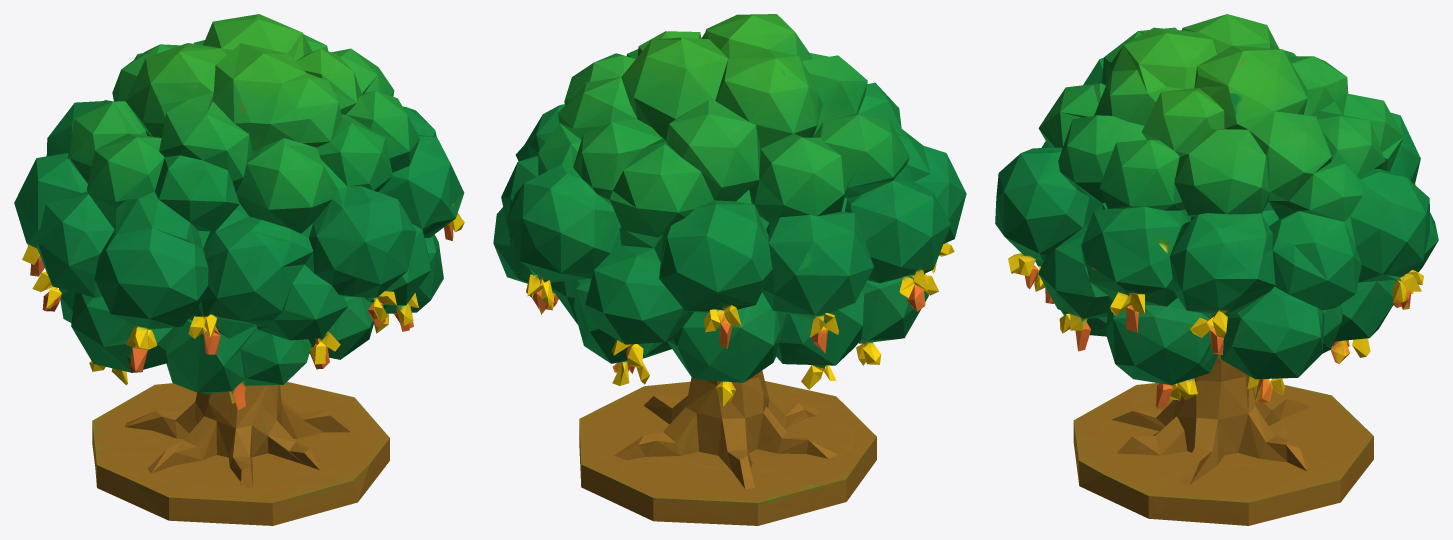
File: rio-arvore-mangueira.glb
3 views of the same model, side by side, from view 1: azimuth 30°, elevation 25°; view 2: azimuth 150°, elevation 25°; view 3: azimuth 270°, elevation 25° (orthographic).
Visible parts, largest first — view 1: tripo_node_4f533ab8-05a2-4abd-a1a5-492810428e84; view 2: tripo_node_4f533ab8-05a2-4abd-a1a5-492810428e84; view 3: tripo_node_4f533ab8-05a2-4abd-a1a5-492810428e84.
Boxes of the visible parts, x1,y1,x2,y2 form: tripo_node_4f533ab8-05a2-4abd-a1a5-492810428e84: (14,14,464,525); tripo_node_4f533ab8-05a2-4abd-a1a5-492810428e84: (493,14,966,525); tripo_node_4f533ab8-05a2-4abd-a1a5-492810428e84: (995,14,1438,525).
Size of the model in its own units: 0.991 by 0.9999 by 0.9379.
Materials: 1 (1 with a texture image).
